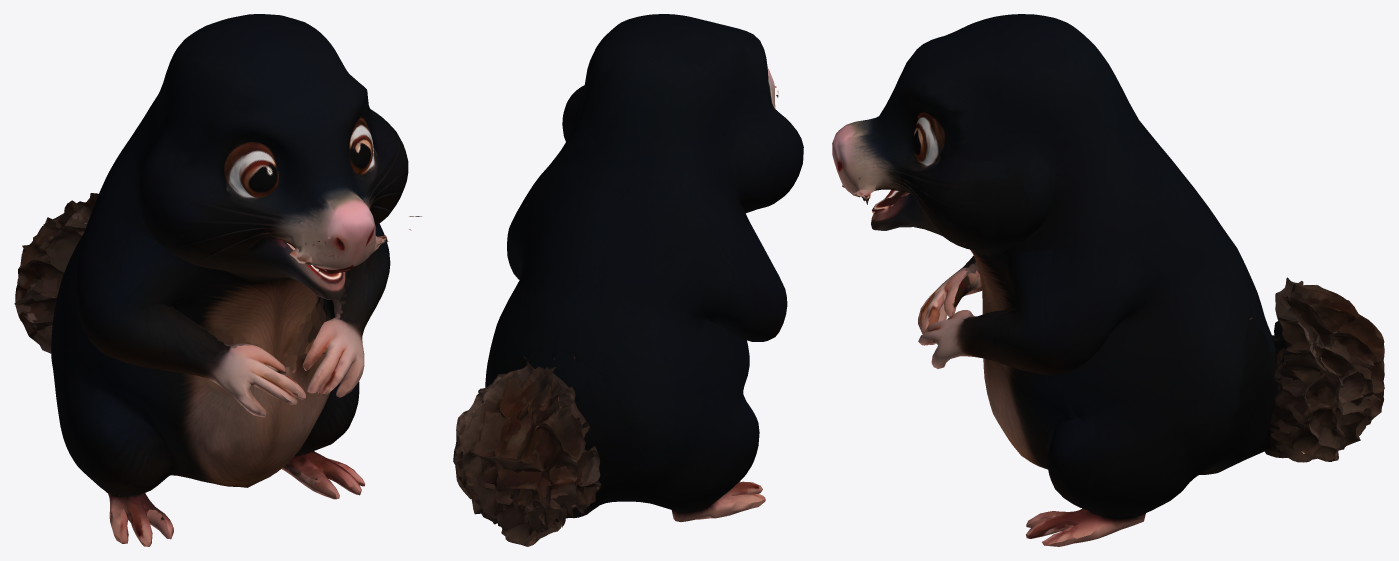
File: MoleModel.fbx
3 views of the same model, side by side, from view 1: azimuth 30°, elevation 25°; view 2: azimuth 150°, elevation 25°; view 3: azimuth 270°, elevation 25° (orthographic). The views are drawn at different scales.
Parts seen in each view (by area): view 1: world; view 2: world; view 3: world.
Part boxes in pixels (x1=…): world: x1=14, y1=14, x2=421, y2=546; world: x1=453, y1=14, x2=803, y2=546; world: x1=832, y1=14, x2=1384, y2=546.
Size of the model in its own units: 58.21 by 93.07 by 100.
1 material, 1 textured.
